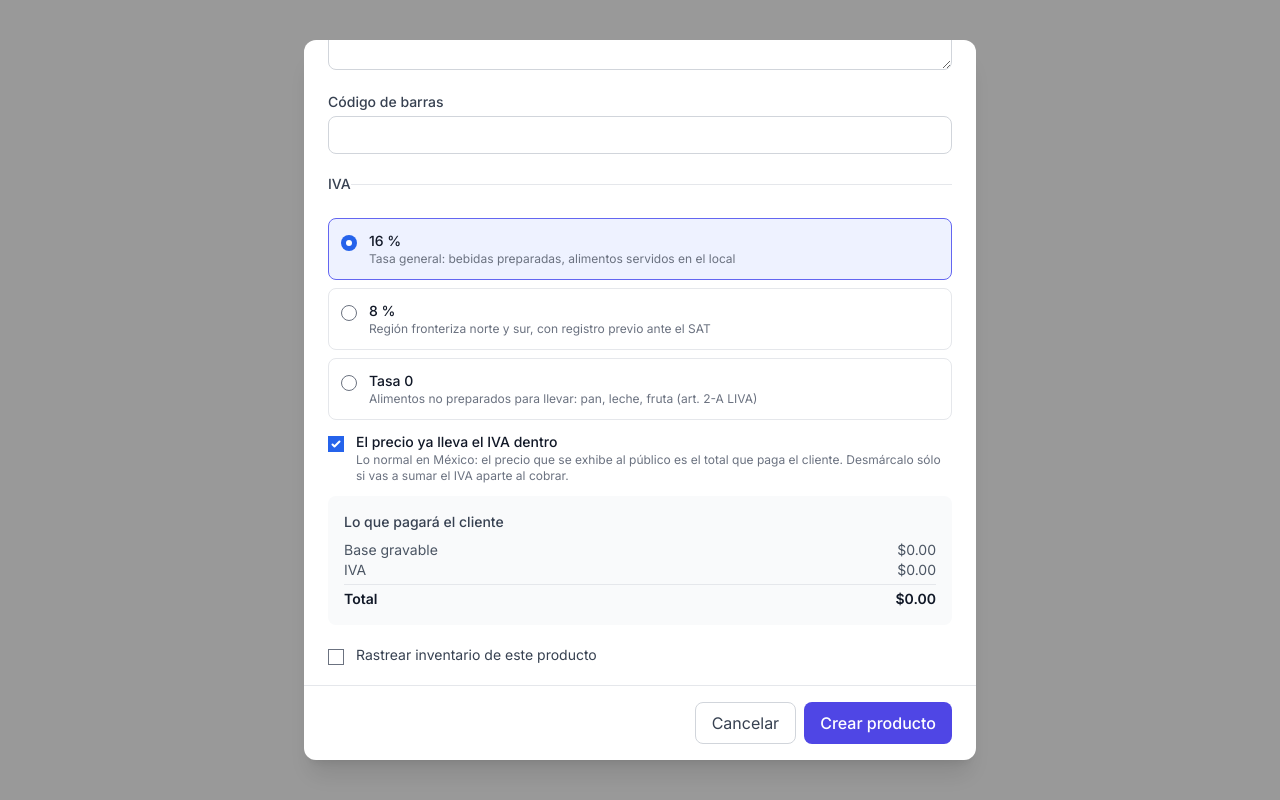
Test: ProductoModal › alta › no manda nada si falta el nombre
The image size is (1280, 800).
(page scrolled)
Click the button "Crear producto".
click(878, 723)  # box [804,702,952,744]
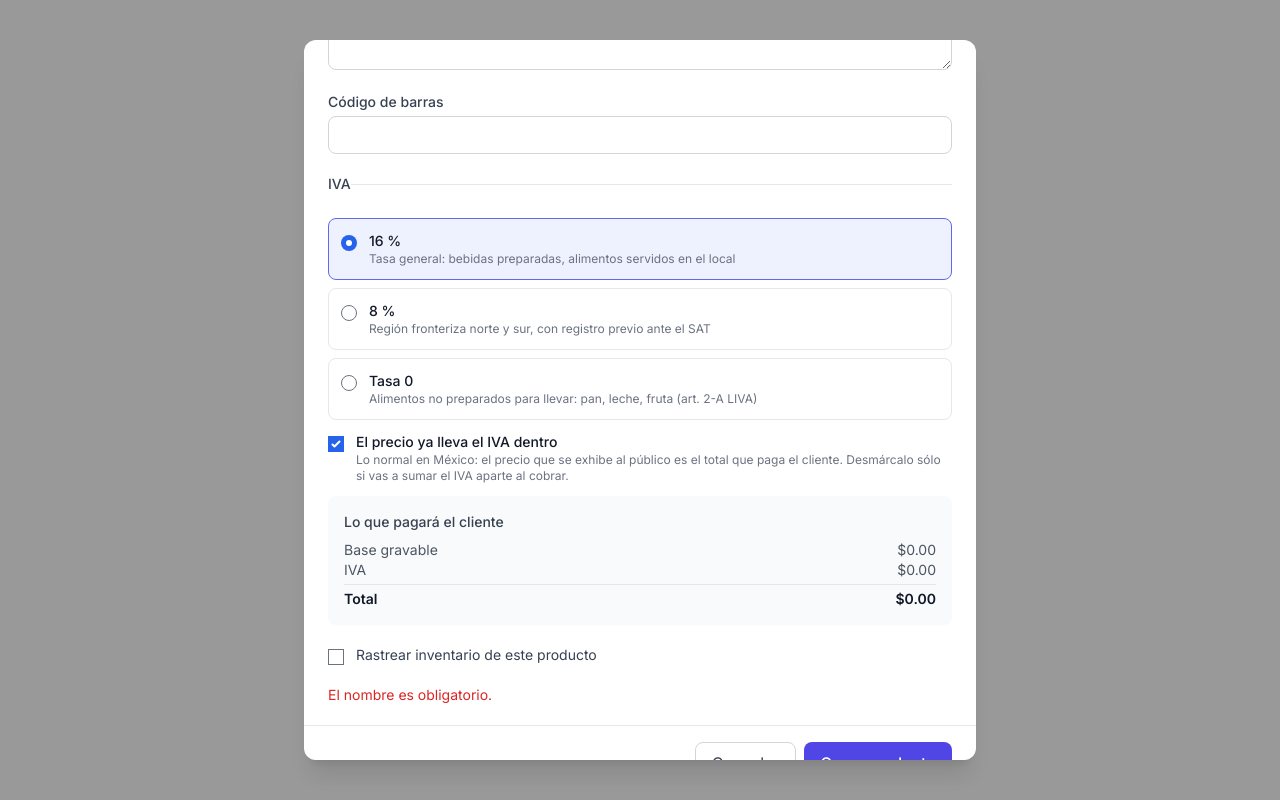
Expected: the message shows "nombre es obligatorio", [328,686,492,703]
